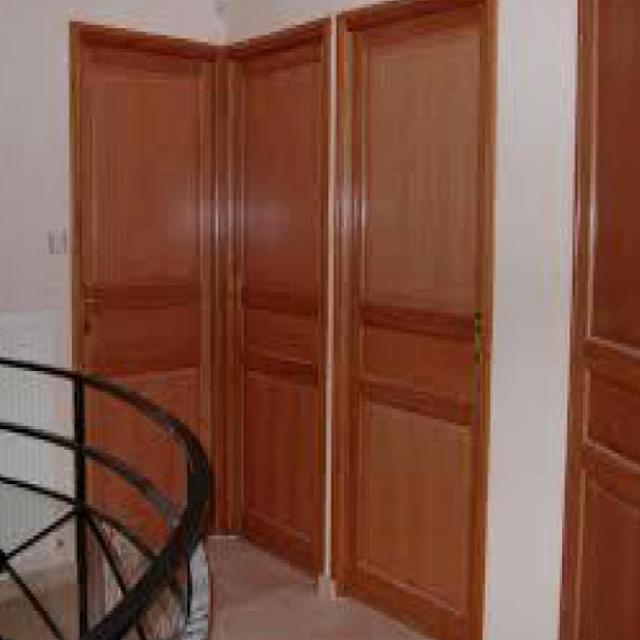door: (338, 2, 501, 640), (226, 14, 332, 586)
